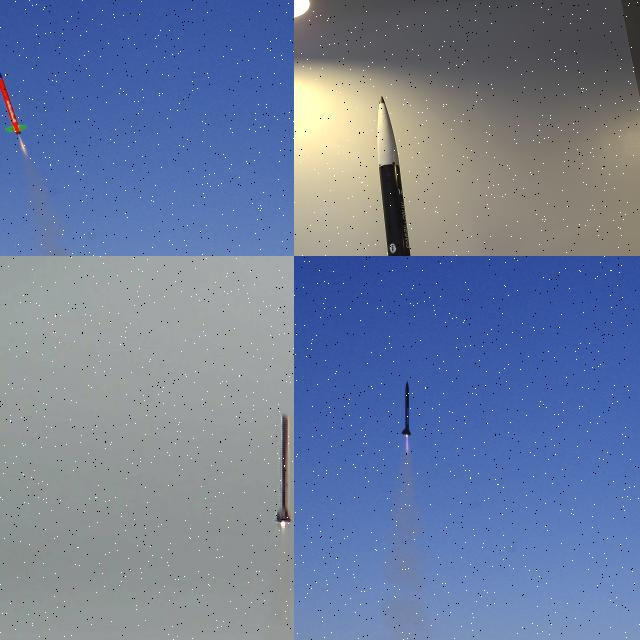Rocket: (377, 96, 411, 256), (0, 66, 28, 135), (276, 412, 292, 522), (401, 381, 412, 436)
